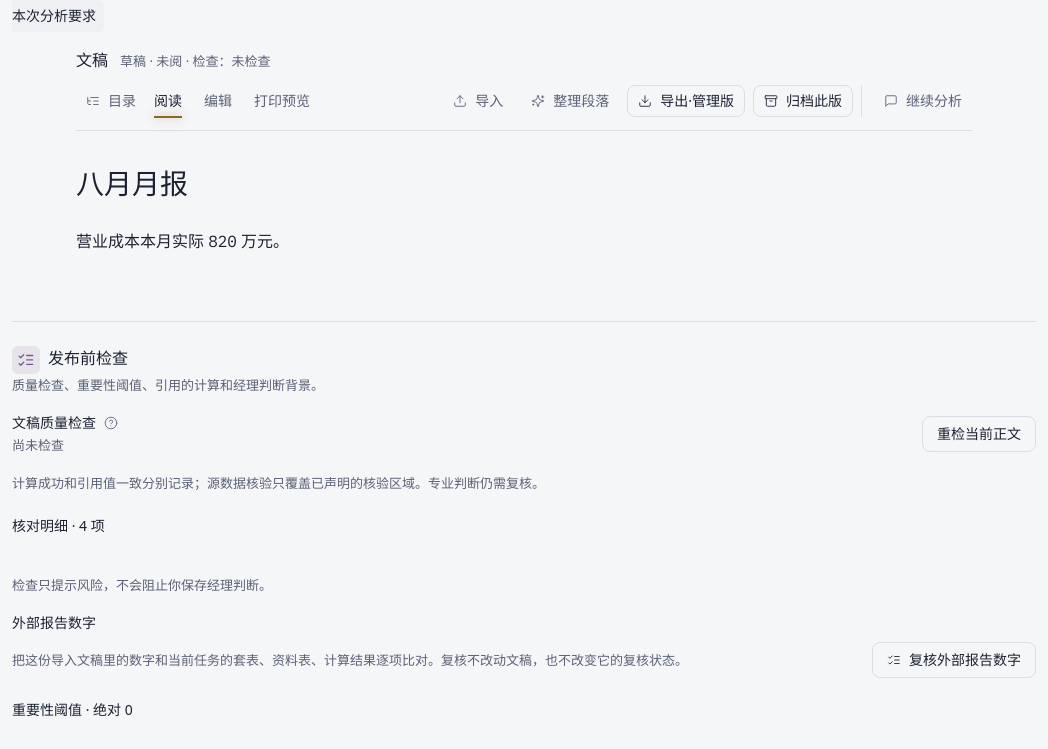
Test: draft view › reviews a saved imported draft by its id and leaves the draft as it was
Click the button "复核外部报告数字" at (954, 660), box [872, 642, 1036, 678]
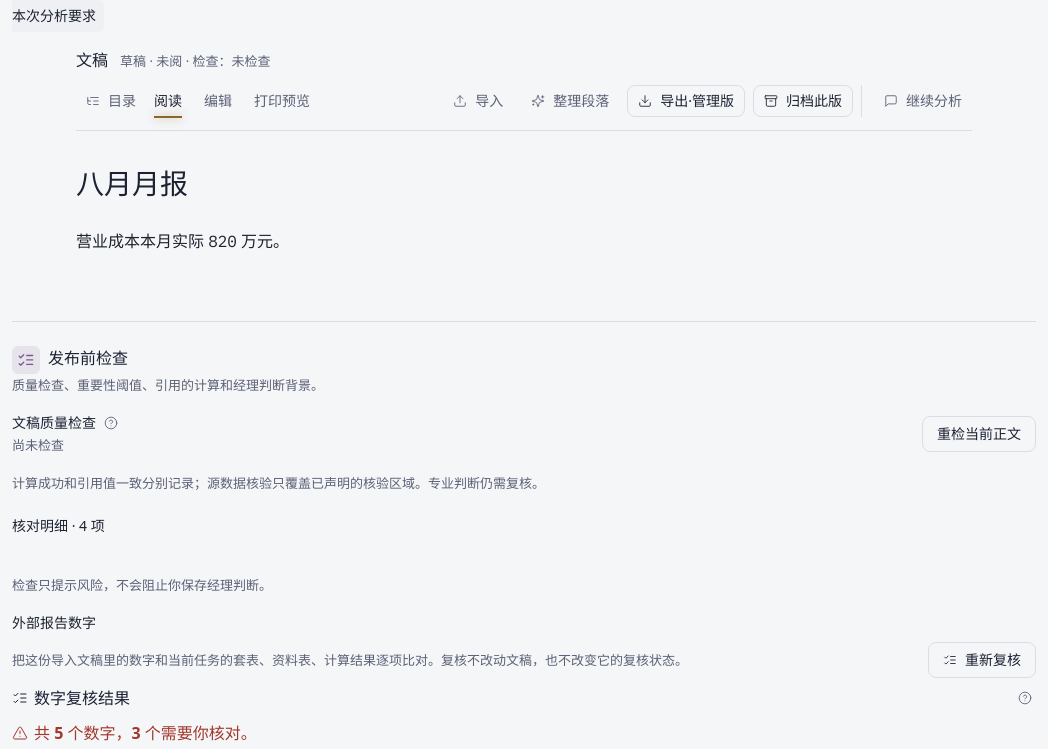
Check: the button "重新复核" is shown, box [928, 642, 1036, 678]
